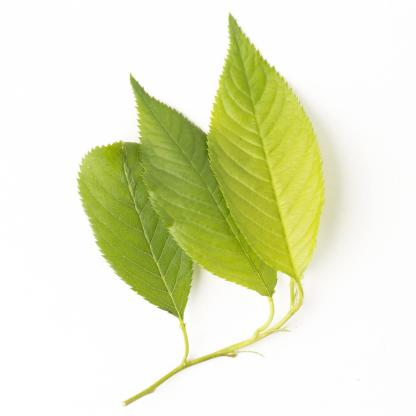cherry leaf: (205, 8, 339, 298), (125, 65, 284, 303), (70, 131, 205, 331)
